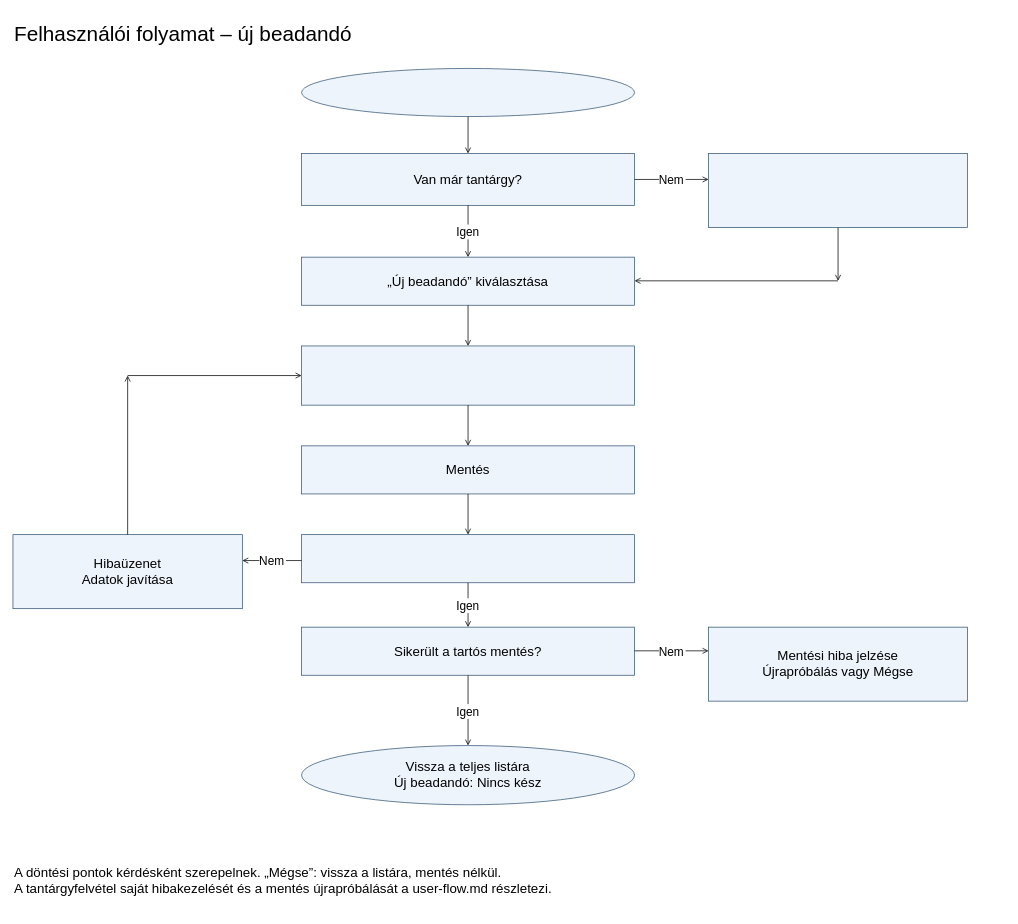
Image size: 1018x924. Some labels were removed from this diagram. Each missing label, with the box of its shape:
Beadandólista megnyitása: (301, 68, 635, 117)
Cím, tantárgy és határidő megadása: (301, 345, 635, 405)
Érvényesek az adatok?: (301, 534, 635, 583)
Új tantárgy felvétele és sikeres mentése: (708, 153, 968, 228)
